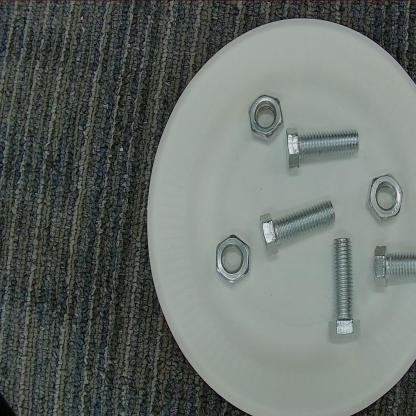FOD: (324, 232, 367, 351), (258, 195, 339, 255), (282, 124, 363, 172), (212, 227, 255, 294), (245, 82, 285, 150), (370, 238, 415, 295), (364, 169, 408, 227)
